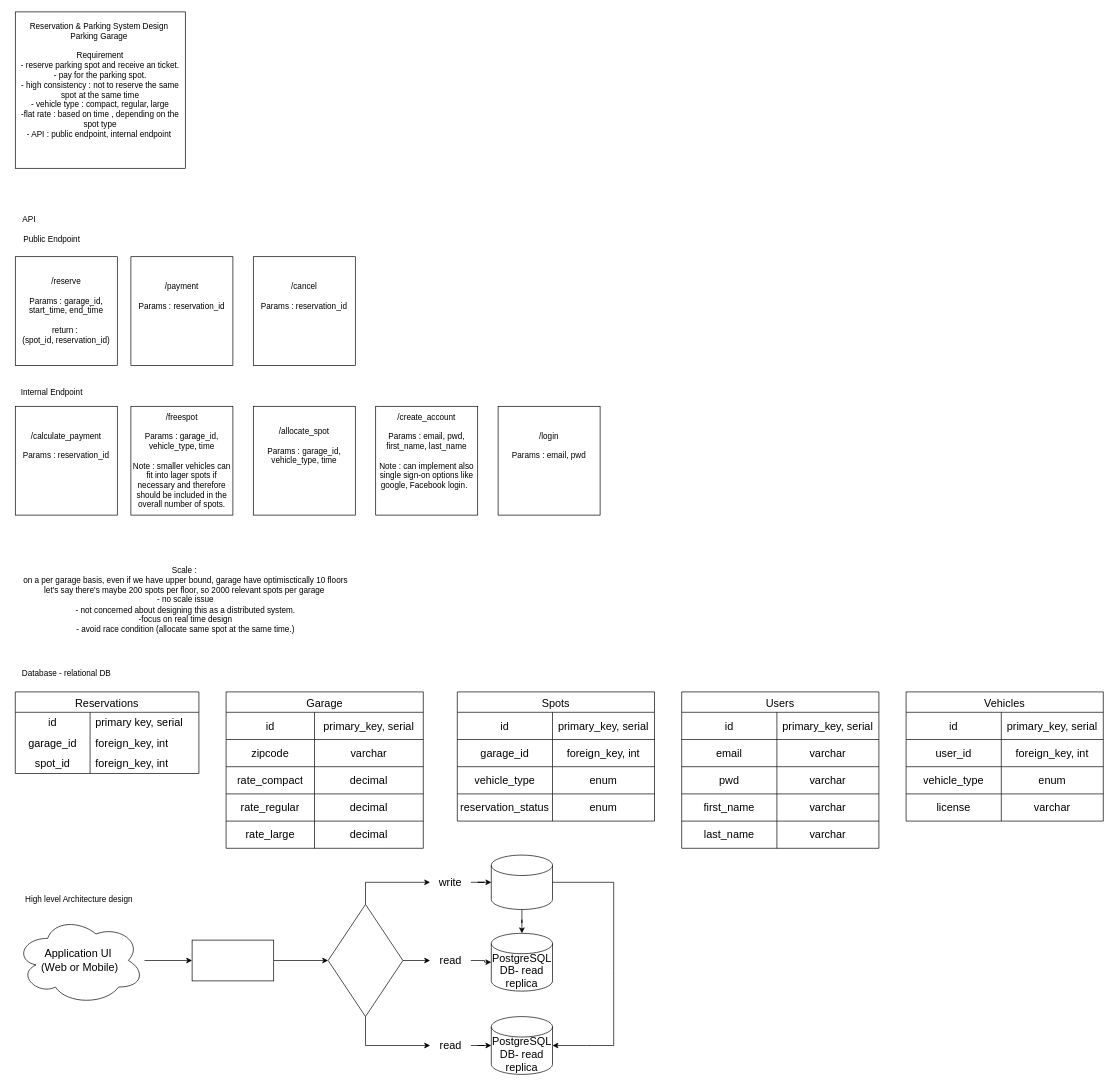
Some shapes in this 1115 by 1087 pixel diagram are drawn without their labels. The shapes that lost their labels are listed below. From the top down, each one's centre as x and y in pixels, then its label:
At point (521, 882): "PostgreSQL DB".
At point (232, 960): "Backend Server".
At point (365, 960): "Load Balancer ( distribute traffic across multiple servers )".
